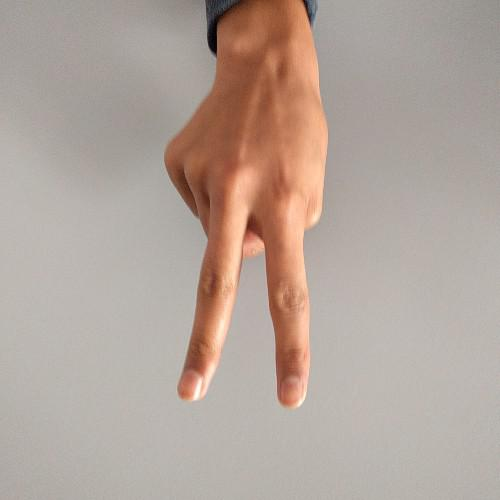scissors: (144, 44, 334, 415)
